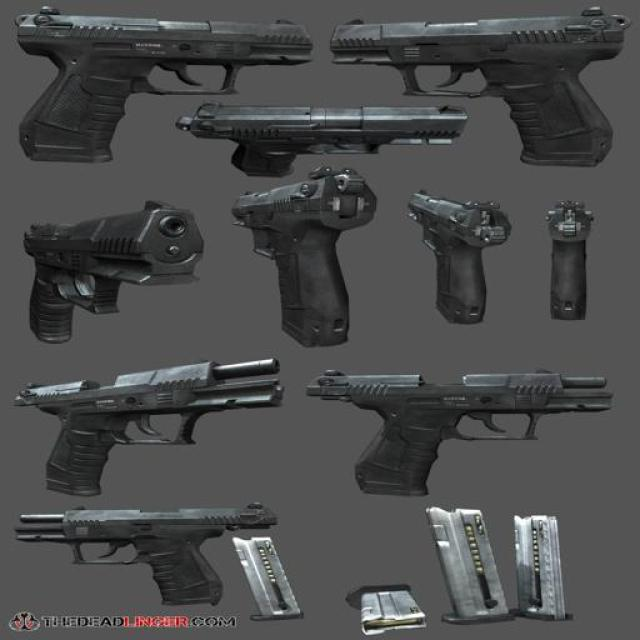pistol: (330, 8, 624, 169), (16, 6, 312, 161), (307, 368, 616, 496), (24, 359, 283, 494), (21, 501, 282, 605), (229, 166, 374, 347), (24, 197, 200, 345), (173, 101, 469, 175), (406, 186, 512, 324), (549, 199, 595, 320)
